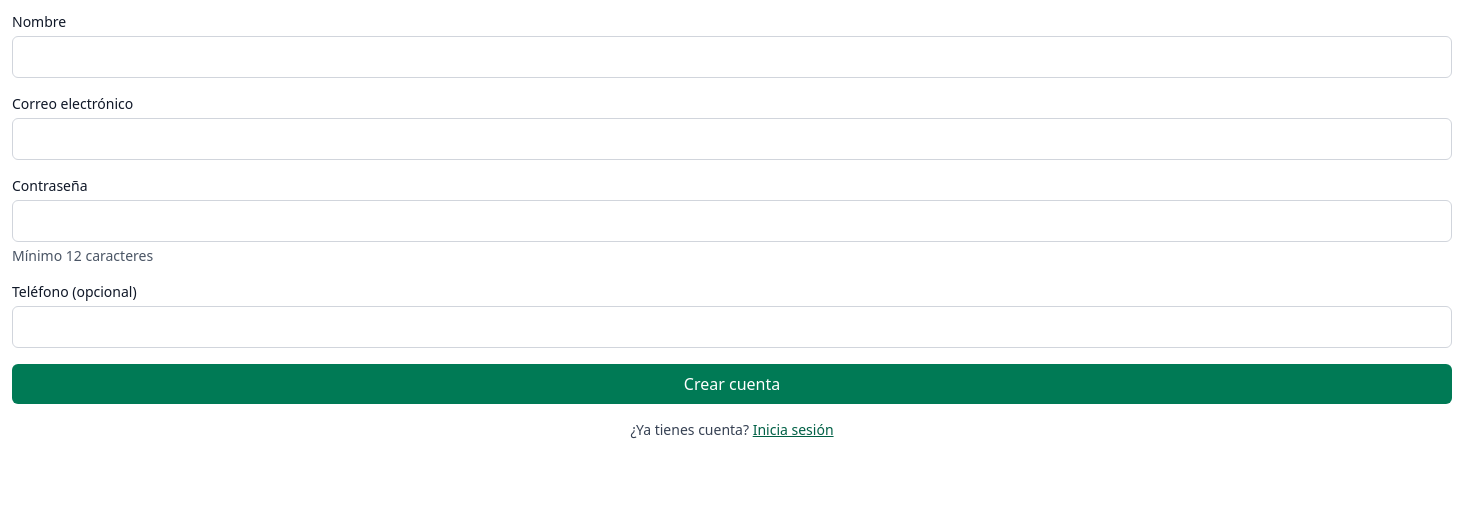
Test case: SignupForm › conserva los valores devueltos pero no la contraseña
This screenshot has width=1464, height=508.
Type "Alex Vecino" into the field labelled "Nombre". click: (732,57)
box: x1=12 y1=36 x2=1452 y2=78
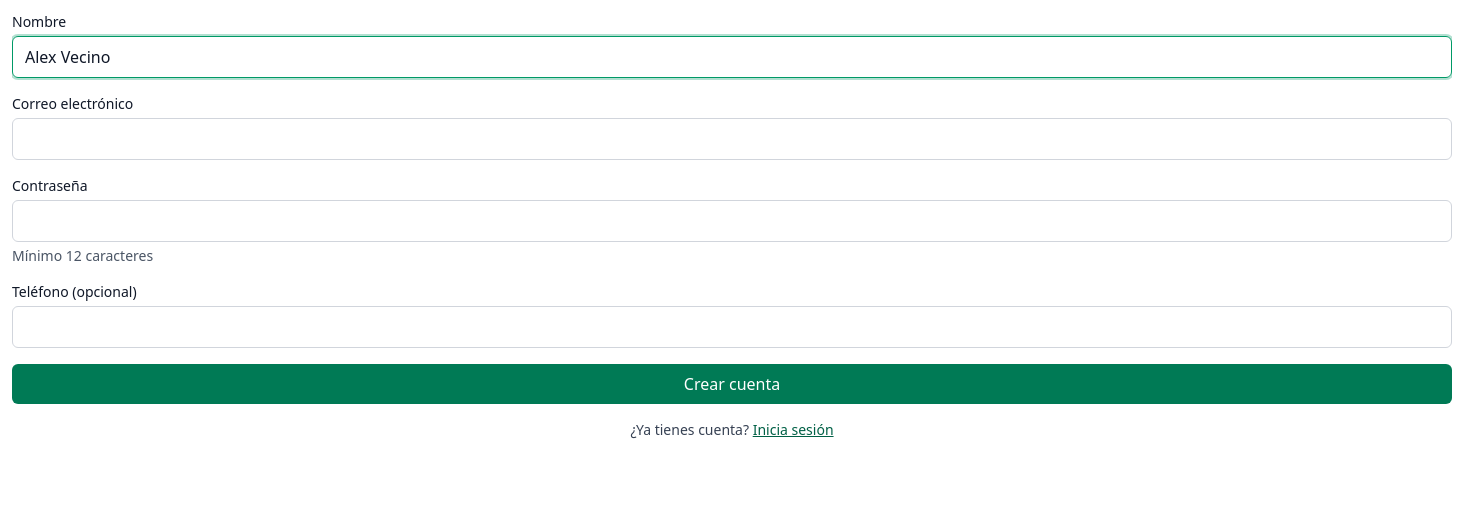
Type "vecino@example.com" into the field labelled "Correo electrónico". click: (732,139)
box: x1=12 y1=118 x2=1452 y2=160
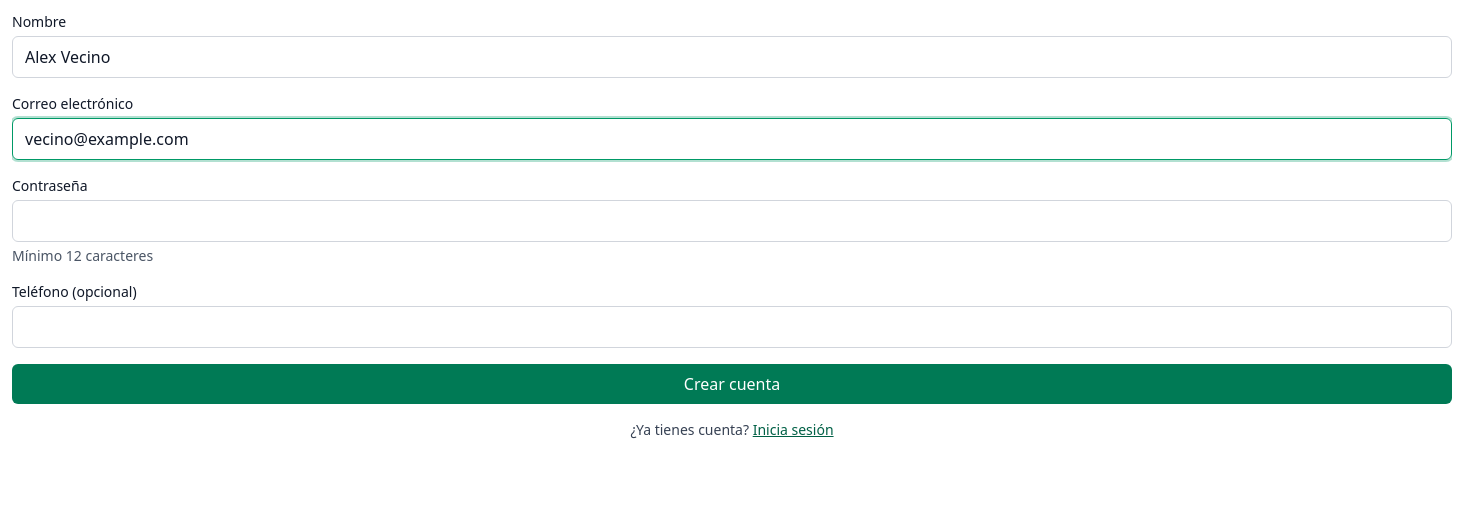
Type "una-clave-cualquiera" into the password field labelled "Contraseña". click: (732,221)
box: x1=12 y1=200 x2=1452 y2=242
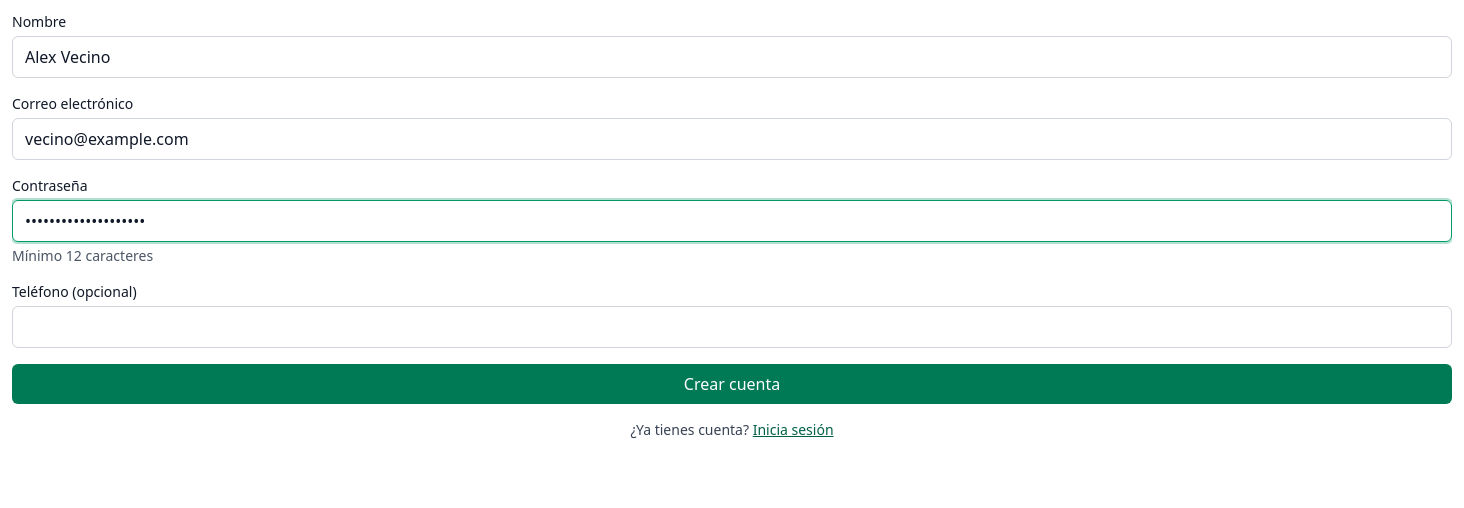
Click the button "Crear cuenta". click: (732,384)
box: x1=12 y1=364 x2=1452 y2=404
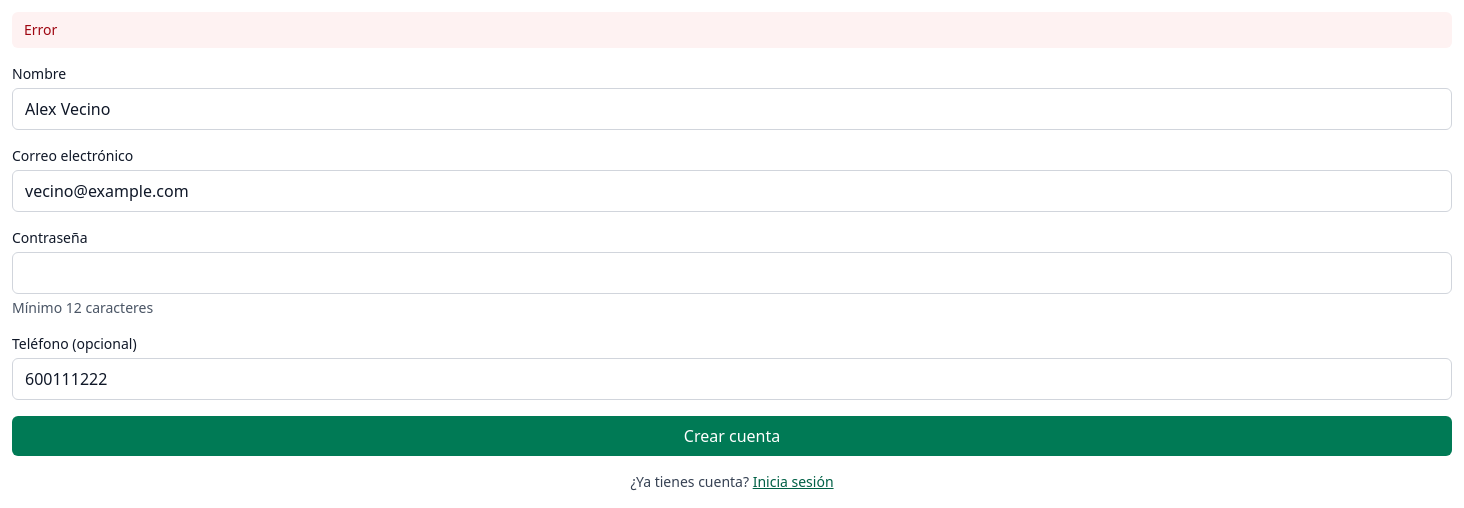
Result: the message "Error" is shown at x1=12 y1=12 x2=1452 y2=48
Result: the field labelled "Teléfono (opcional)" holds "600111222" at x1=12 y1=358 x2=1452 y2=400
Result: the password field labelled "Contraseña" is empty at x1=12 y1=252 x2=1452 y2=294
